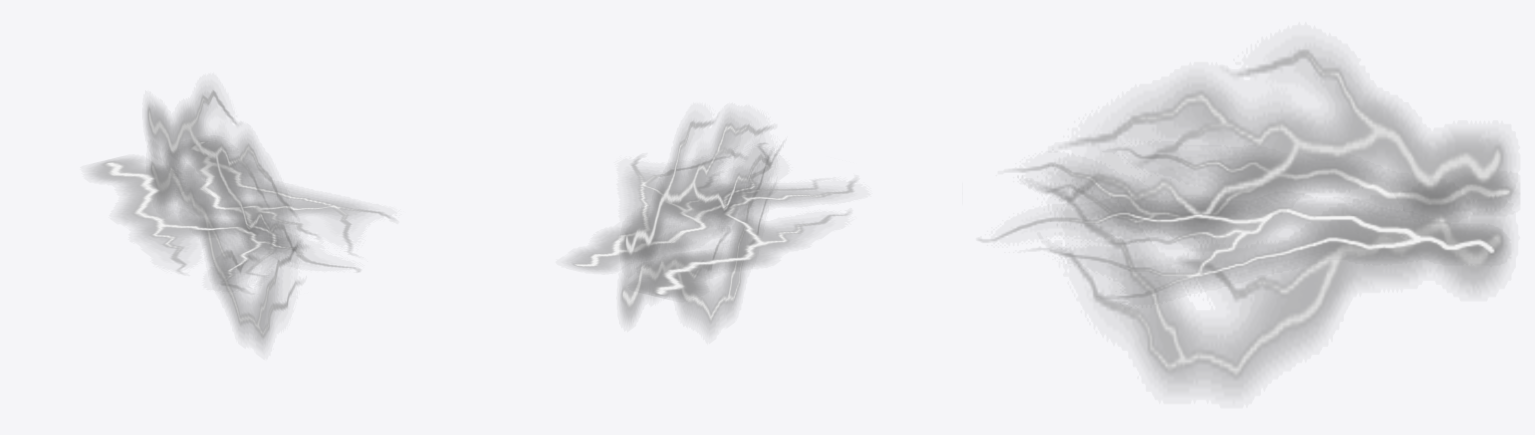
File: si_eos_3200.glb
3 views of the same model, side by side, from view 1: azimuth 30°, elevation 25°; view 2: azimuth 150°, elevation 25°; view 3: azimuth 270°, elevation 25° (orthographic). The views are drawn at different scales.
Visible parts, largest first — view 1: layer_00_si_est_0800; view 2: layer_00_si_est_0800; view 3: layer_00_si_est_0800.
Boxes of the visible parts, x1=… form: layer_00_si_est_0800: x1=91, y1=89, x2=390, y2=346; layer_00_si_est_0800: x1=569, y1=115, x2=855, y2=331; layer_00_si_est_0800: x1=980, y1=49, x2=1516, y2=389.
Bounding box in the file's own units: 8 × 8 × 10.
1 material, 1 textured.
